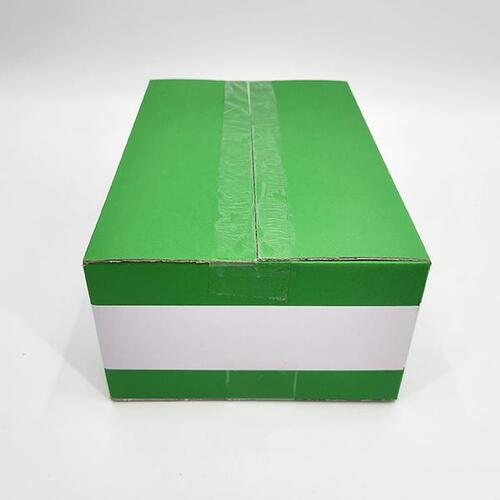undamaged: (80, 78, 431, 404)
